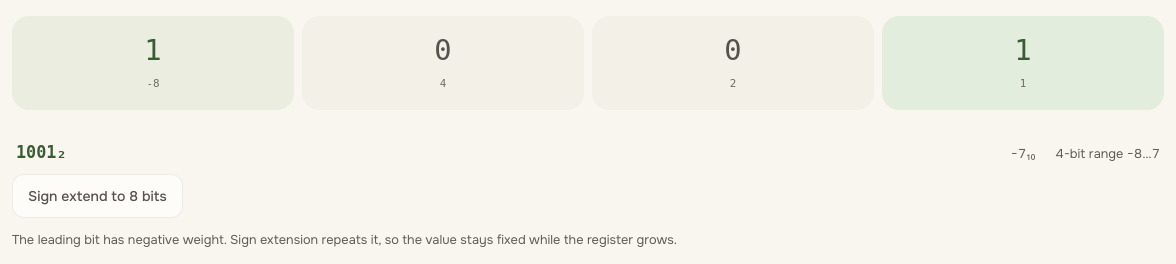
Test: SystemsDiagram › keeps a two's-complement value stable when it is sign-extended
Check: the text "1001₂" is shown, box [16,142,66,162]
Check: the text "−7₁₀" is shown, box [1011,144,1035,162]
What coordinates should you click on to do the following:
click the button "Sign extend to 8 bits"
I would click on:
 (97, 196)
Its box is [12,174,183,218].
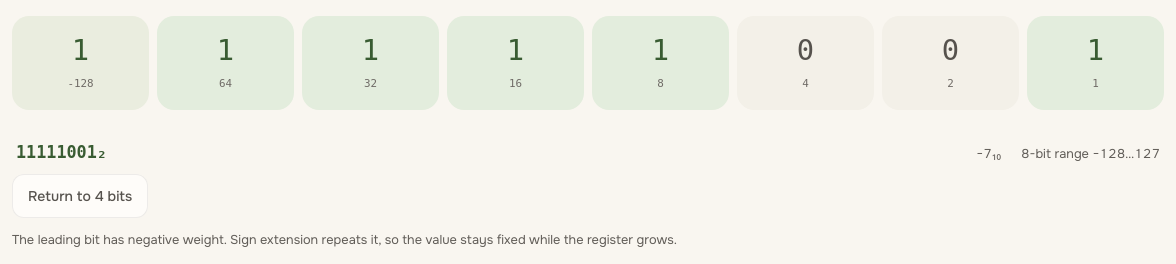
Check: the text "−7₁₀" is shown, box [976,144,1001,162]
Check: the text "11111001₂" is shown, box [16,142,107,162]
